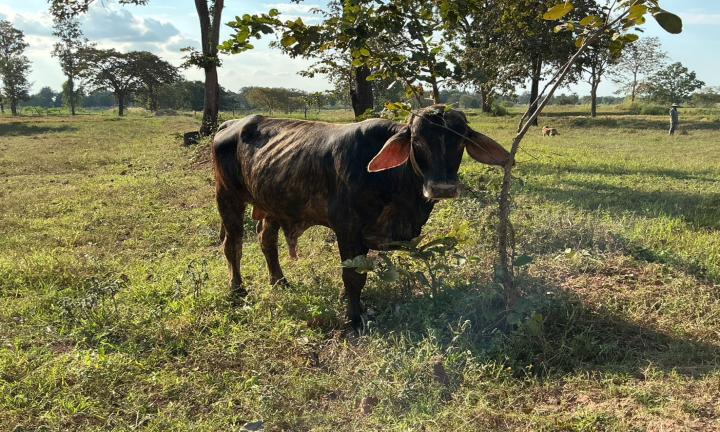Charolais: (213, 104, 508, 294), (340, 269, 366, 325)
